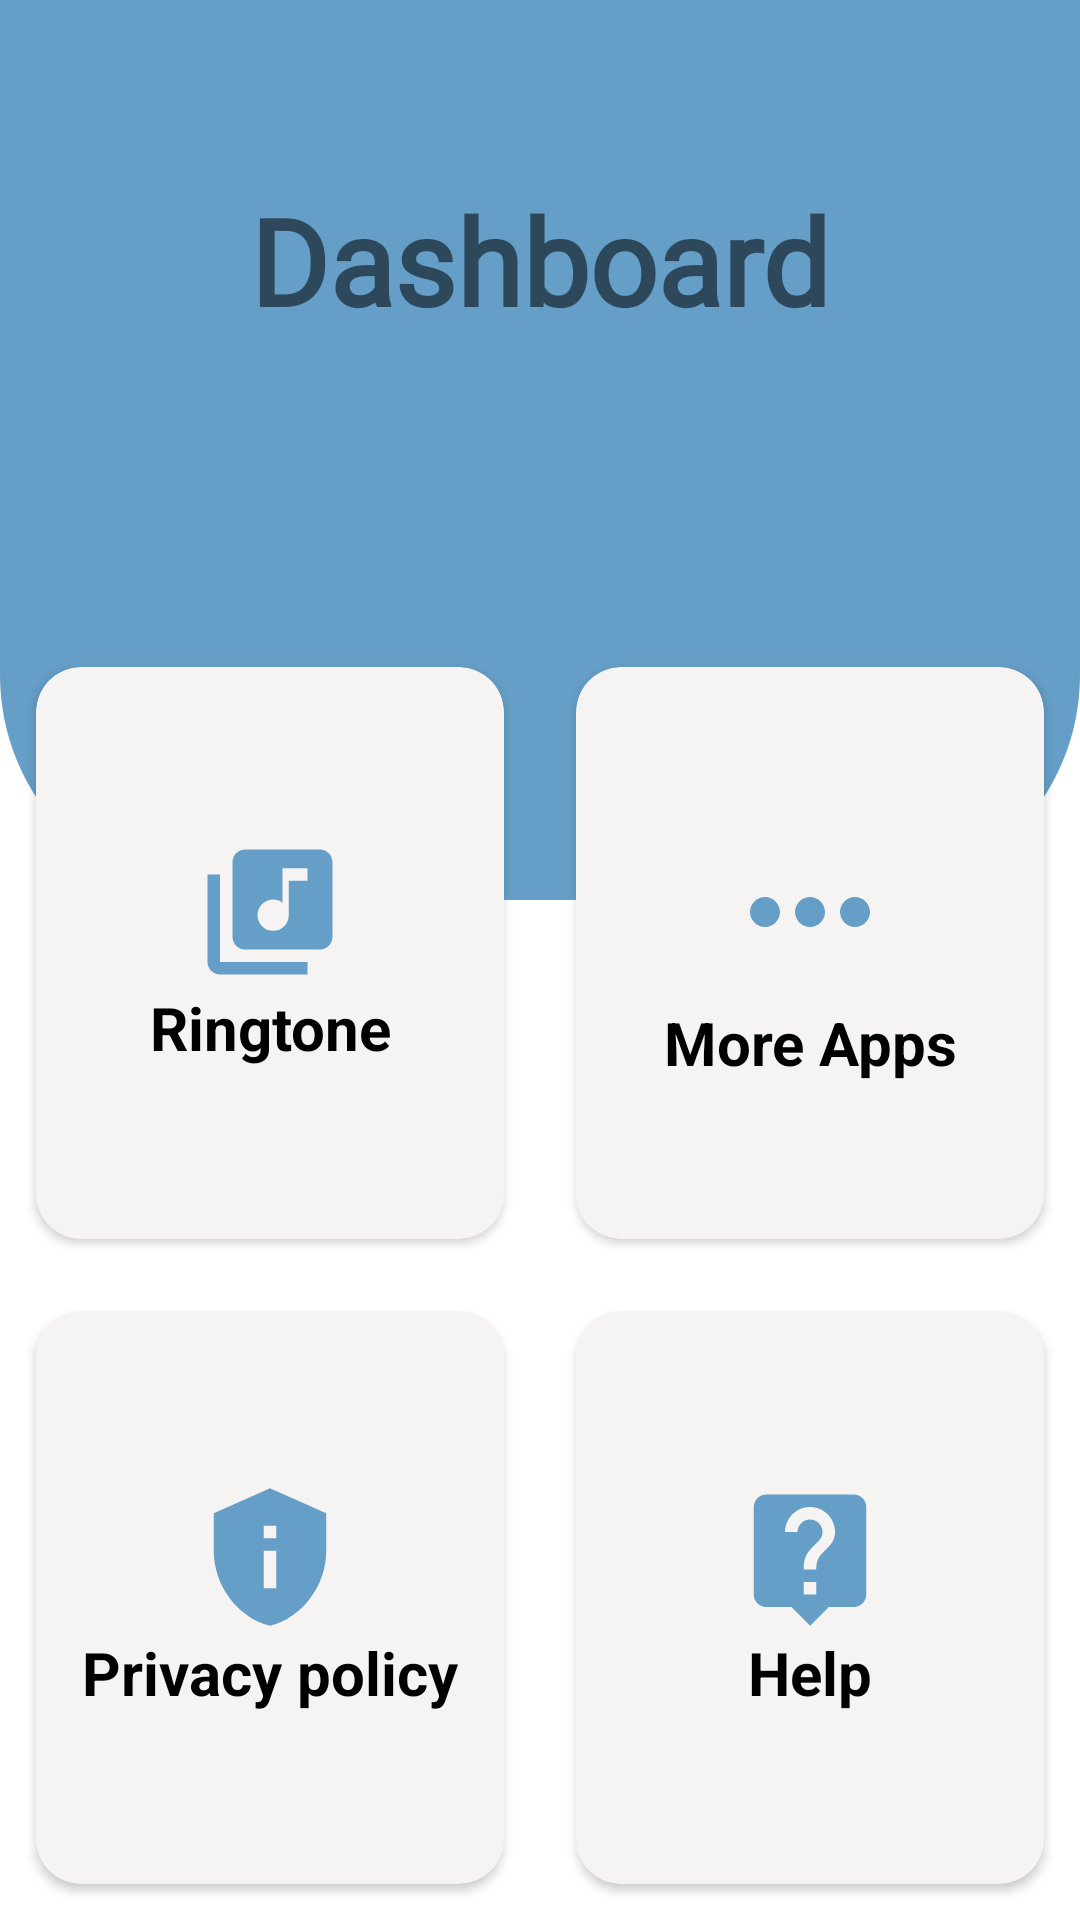

Icon bounding boxes for this 1080 × 1920 phone screenshot, format (x1, y1, x2, y2):
library music: (207, 849, 333, 975)
more horiz: (750, 897, 870, 927)
privacy tip: (213, 1488, 327, 1626)
